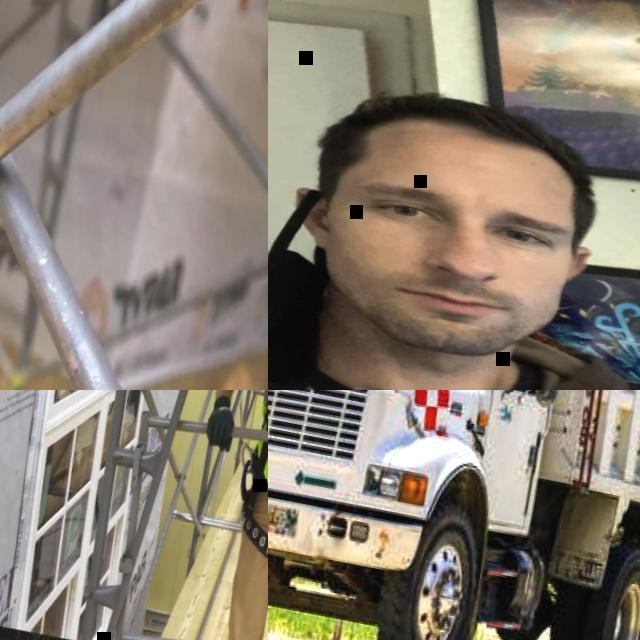NO-Hardhat: (306, 75, 603, 195)
NO-Mask: (279, 215, 586, 375)
NO-Safety Vest: (268, 316, 640, 390)
Person: (268, 42, 640, 390), (156, 390, 268, 640)
machinery: (268, 390, 640, 640)
